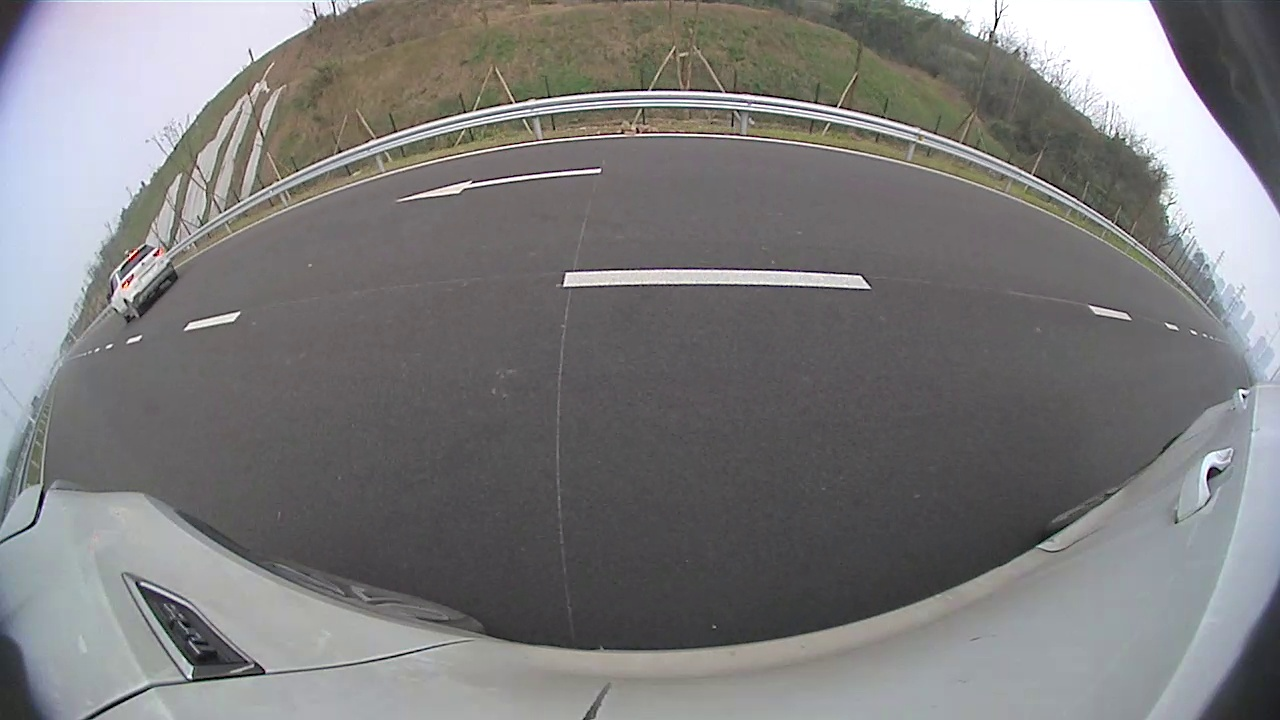car: (743, 143, 865, 217)
front: (741, 175, 756, 201)
rear: (778, 179, 800, 210)
